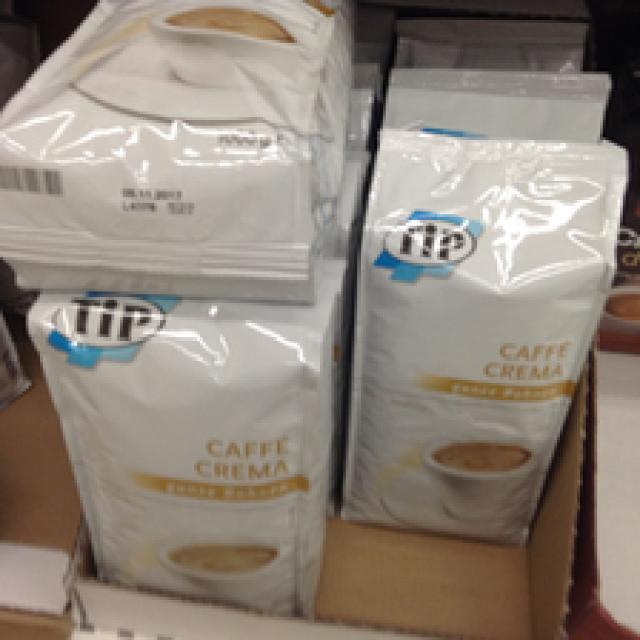groceries: (337, 117, 623, 546), (20, 286, 334, 617), (0, 0, 348, 291)
